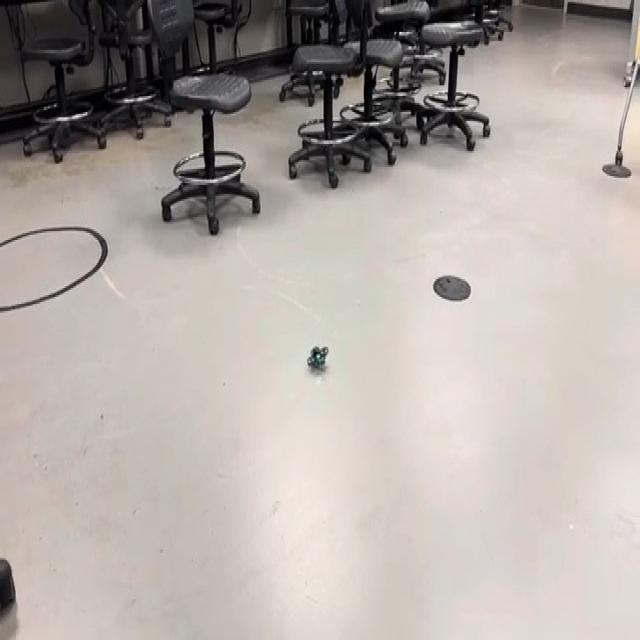drone: (300, 330, 336, 380)
